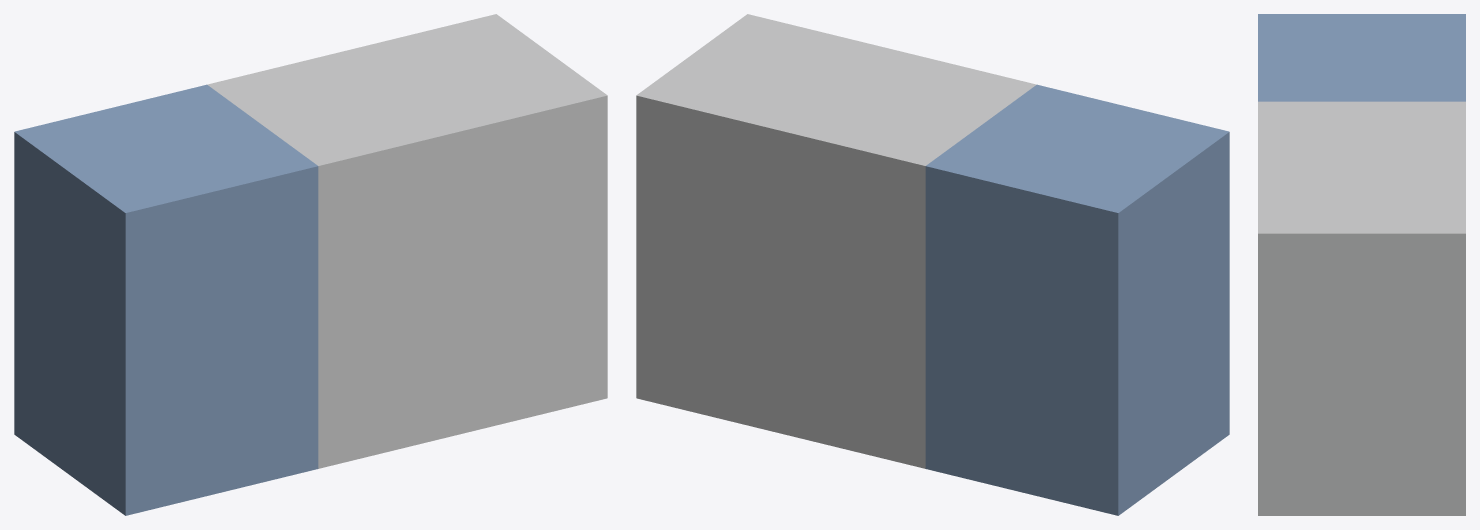
Rendered from antidouleurs.glb.
3 renders of one model, left to right at view 1: azimuth 30°, elevation 25°; view 2: azimuth 150°, elevation 25°; view 3: azimuth 270°, elevation 25°, orthographic. The views are drawn at different scales.
Visible parts, largest first — view 1: main; view 2: main; view 3: main.
Boxes of the visible parts, box(x1,y1,x2,y2) form: main: box(14, 14, 607, 515); main: box(636, 14, 1229, 515); main: box(1258, 14, 1465, 515).
Size of the model in its own units: 0.3125 by 0.1875 by 0.125.
